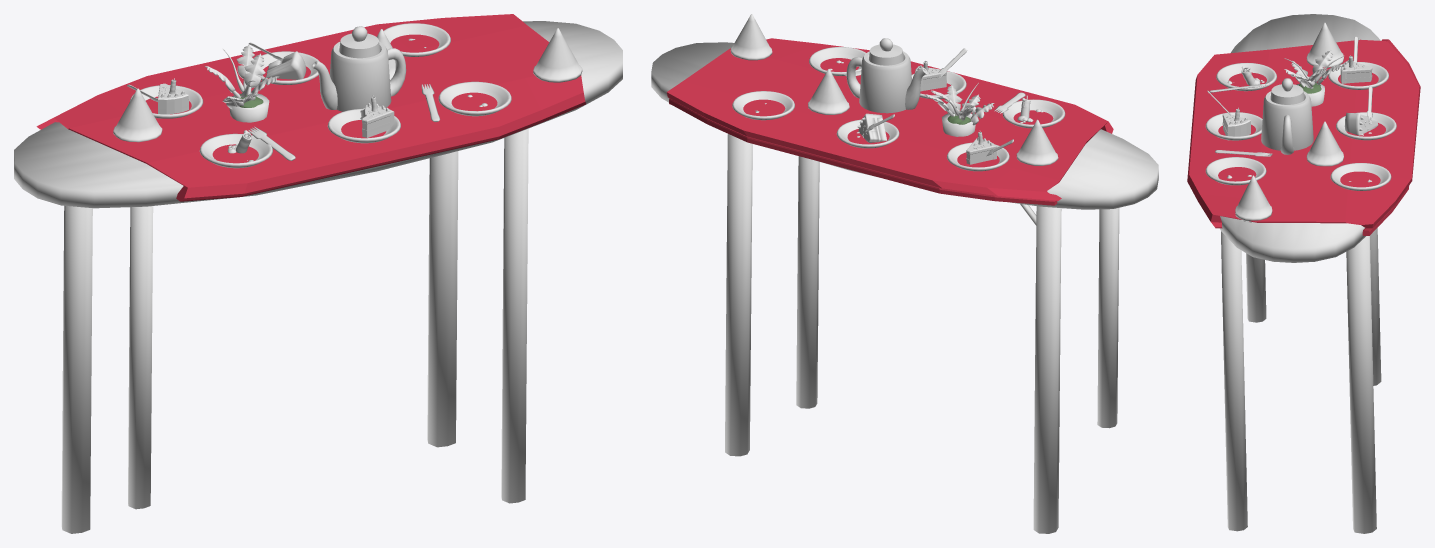
Rendered from tisch 2.fbx.
3 renders of one model, left to right at view 1: azimuth 30°, elevation 25°; view 2: azimuth 150°, elevation 25°; view 3: azimuth 270°, elevation 25°, orthographic. The views are drawn at different scales.
Visible parts, largest first — view 1: Cube.2935, Cube.3049, Cube.3050, Cube.3051, Cube.3053, Cube.3052, Teapot.002, Cube.3021, Cube.3045, Circle.040, Circle.041, Circle.038 (+5 smaller); view 2: Cube.2935, Cube.3049, Cube.3050, Cube.3053, Cube.3051, Cube.3052, Teapot.002, Cube.3021, Cube.3045, Cube.3046, Circle.038, Circle.041 (+4 smaller); view 3: Cube.2935, Cube.3049, Cube.3053, Cube.3051, Teapot.002, Cube.3050, Cube.3052, Cube.3021, Cube.3046, Circle.040, Circle.038, Circle.041 (+7 smaller).
Part boxes in pixels (<box>): Cube.2935: <box>36,14,586,201</box>; Cube.3049: <box>14,21,622,208</box>; Cube.3050: <box>61,205,92,533</box>; Cube.3051: <box>501,128,528,503</box>; Cube.3053: <box>427,151,458,447</box>; Cube.3052: <box>128,206,153,509</box>; Teapot.002: <box>311,26,406,111</box>; Cube.3021: <box>533,28,582,82</box>; Cube.3045: <box>113,88,162,142</box>; Circle.040: <box>438,81,511,116</box>; Circle.041: <box>199,133,272,168</box>; Circle.038: <box>383,23,450,56</box>; Cube.2935: <box>666,38,1113,205</box>; Cube.3049: <box>651,42,1158,209</box>; Cube.3050: <box>1033,206,1061,533</box>; Cube.3053: <box>725,134,752,456</box>; Cube.3051: <box>796,156,819,408</box>; Cube.3052: <box>1097,208,1119,428</box>; Teapot.002: <box>846,38,927,113</box>; Cube.3021: <box>730,14,772,60</box>; Cube.3045: <box>1016,119,1058,165</box>; Cube.3046: <box>808,69,849,114</box>; Circle.038: <box>732,91,794,120</box>; Circle.041: <box>1002,99,1065,128</box>; Cube.2935: <box>1187,39,1420,235</box>; Cube.3049: <box>1220,14,1380,262</box>; Cube.3053: <box>1346,236,1376,533</box>; Cube.3051: <box>1221,231,1247,531</box>; Teapot.002: <box>1261,78,1313,154</box>; Cube.3050: <box>1370,228,1381,385</box>; Cube.3052: <box>1246,253,1266,322</box>; Cube.3021: <box>1235,175,1272,222</box>; Cube.3046: <box>1306,121,1343,166</box>; Circle.040: <box>1205,157,1266,185</box>; Circle.038: <box>1330,163,1391,190</box>; Circle.041: <box>1216,63,1277,91</box>.
Bounding box in the file's own units: 473 × 199 × 374.
